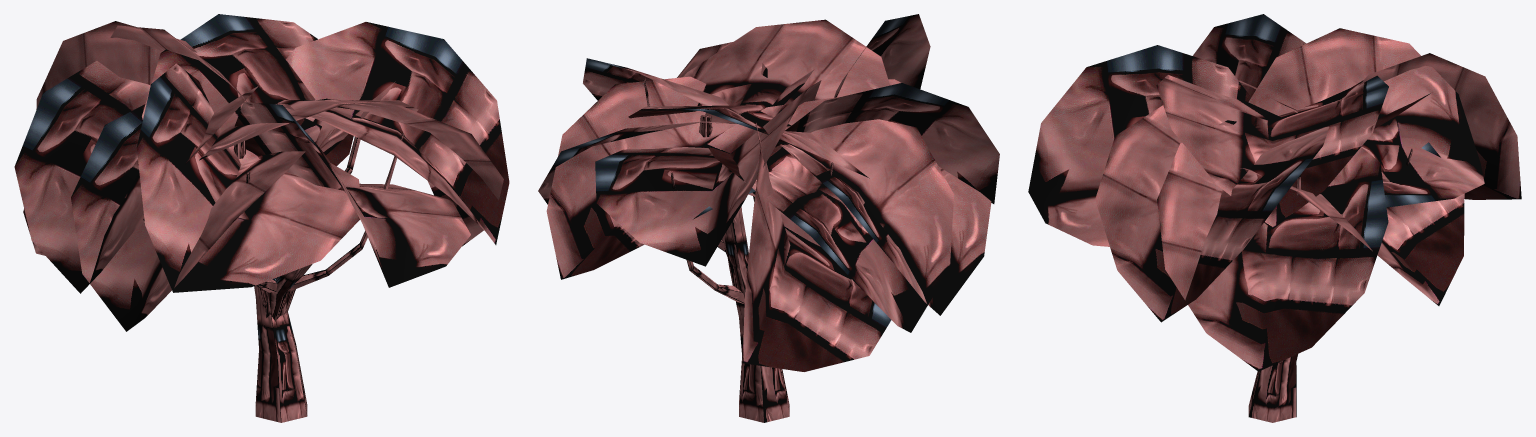
3 views of the same model, side by side, from view 1: azimuth 30°, elevation 25°; view 2: azimuth 150°, elevation 25°; view 3: azimuth 270°, elevation 25° (orthographic). The views are drawn at different scales.
Visible parts, largest first — view 1: 2_Cluster10, 1_Trunk; view 2: 2_Cluster10, 1_Trunk; view 3: 2_Cluster10, 1_Trunk.
Part boxes in pixels (x1,y1,x2,y2): 2_Cluster10: (14,14,509,331); 1_Trunk: (233,133,403,422); 2_Cluster10: (538,14,999,371); 1_Trunk: (643,78,833,422); 2_Cluster10: (1028,14,1521,371); 1_Trunk: (1248,148,1412,422).
Size of the model in its own units: 136 by 123 by 159.
1 material, 1 textured.
